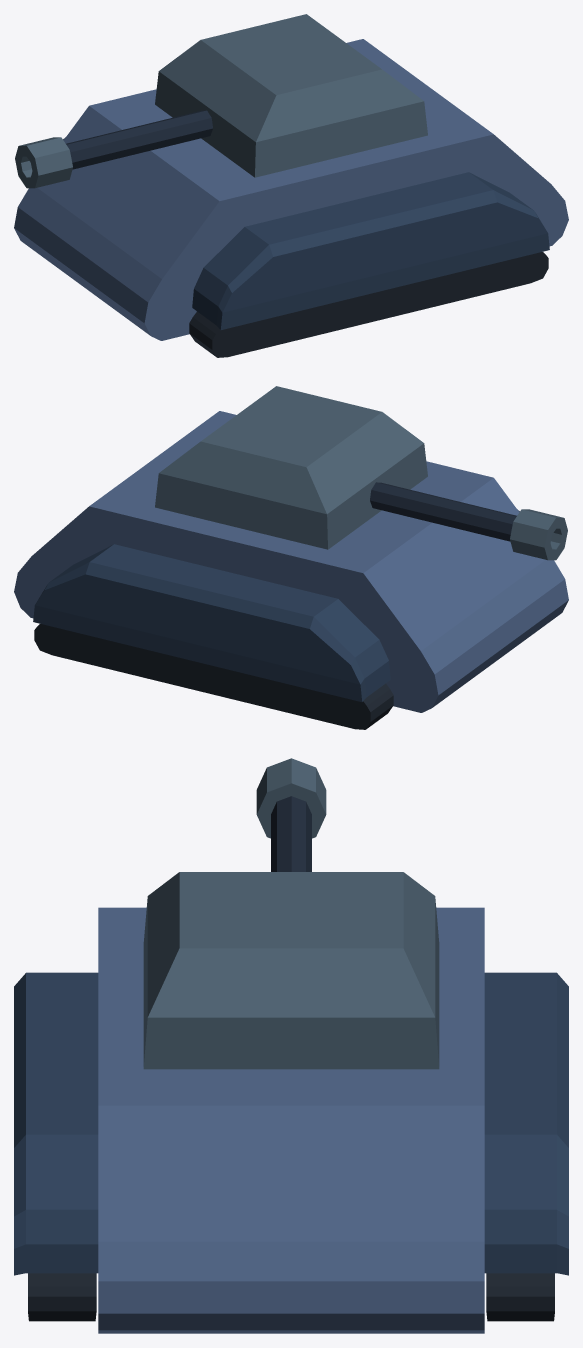
The model's file is Tank.fbx.
3 renders of one model, top to bottom at view 1: azimuth 30°, elevation 25°; view 2: azimuth 150°, elevation 25°; view 3: azimuth 270°, elevation 25°, orthographic. The views are drawn at different scales.
Parts seen in each view (by area): view 1: Tank, Gun; view 2: Tank, Gun; view 3: Tank, Gun.
Part boxes in pixels (x1,y1,x2,y2): Tank: (14,39,568,357); Gun: (15,14,427,188); Tank: (14,411,568,729); Gun: (155,386,567,560); Tank: (14,907,568,1333); Gun: (143,758,439,1069).
Bounding box in the file's own units: 675 × 272 × 460.
